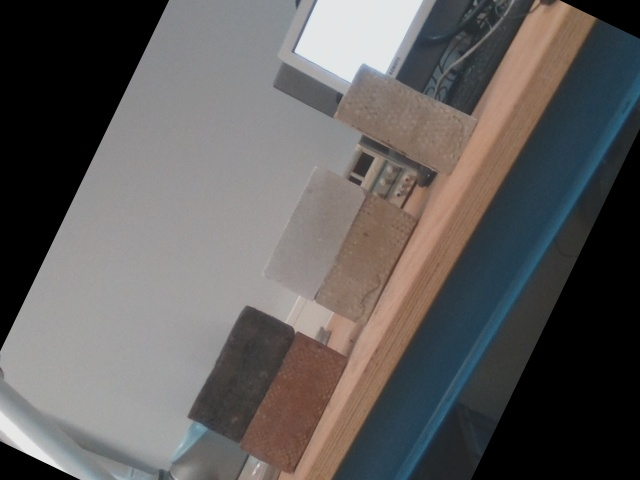brick: (243, 334, 347, 472), (339, 67, 474, 168), (264, 168, 365, 298), (190, 308, 290, 439), (319, 198, 413, 321)
